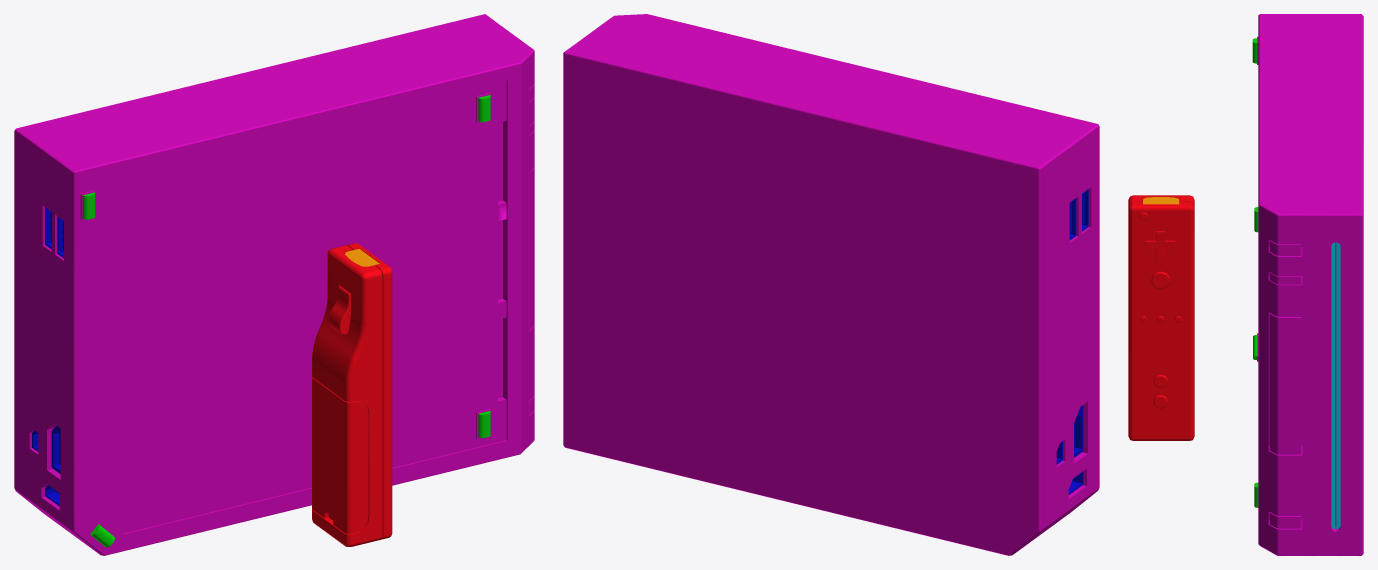
Rendered from Wii.fbx.
The picture shows the model from 3 angles, left to right: view 1: azimuth 30°, elevation 25°; view 2: azimuth 150°, elevation 25°; view 3: azimuth 270°, elevation 25°; orthographic projection. The views are drawn at different scales.
Parts seen in each view (by area): view 1: Wii_low, Controller_low; view 2: Wii_low; view 3: Wii_low, Controller_low.
Part boxes in pixels (x1,y1,x2,y2): Wii_low: [14, 14, 534, 555]; Controller_low: [312, 243, 392, 546]; Wii_low: [563, 14, 1099, 555]; Wii_low: [1252, 14, 1363, 555]; Controller_low: [1128, 195, 1194, 440].
Size of the model in its own units: 345 by 276 by 170.
